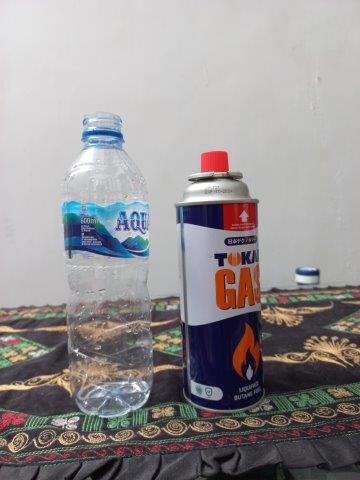botolplastik: (63, 112, 154, 418)
kaleng: (174, 152, 262, 412)
